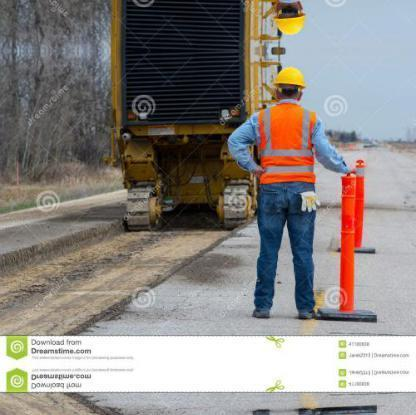helmet: (268, 65, 307, 97)
